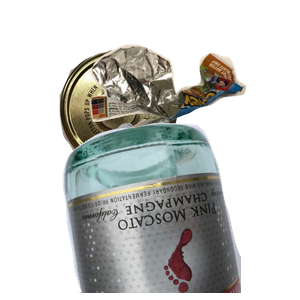glass: (60, 120, 300, 300)
metal: (57, 47, 227, 211)
plastic: (55, 120, 284, 300)
trash: (88, 42, 300, 219)
